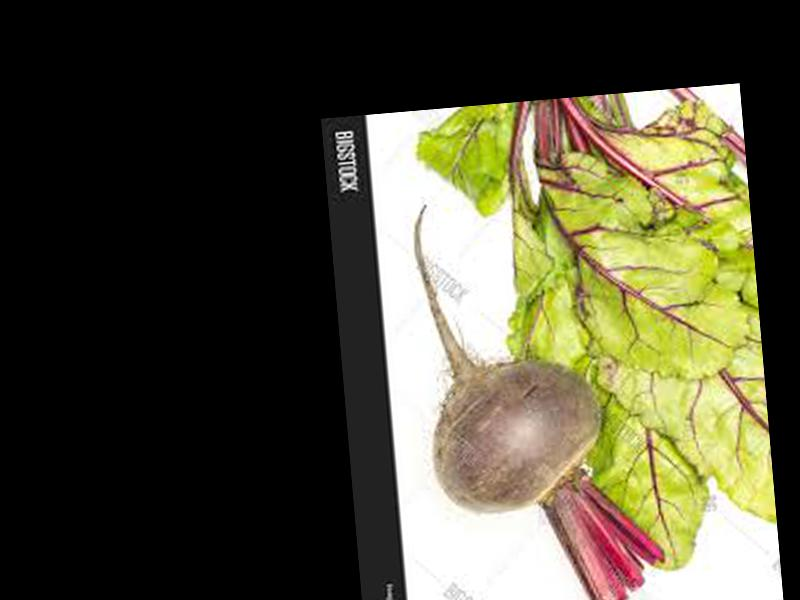Beet: (410, 187, 669, 600)
